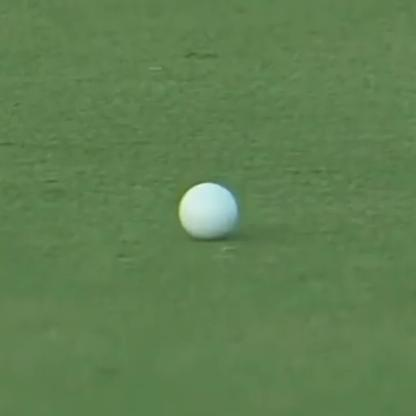golfball: (179, 179, 236, 236)
